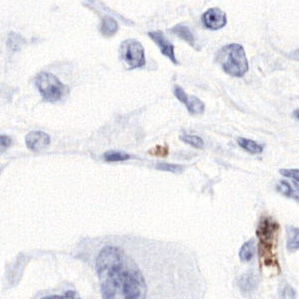Lymphocyte: (254, 214, 283, 269)
